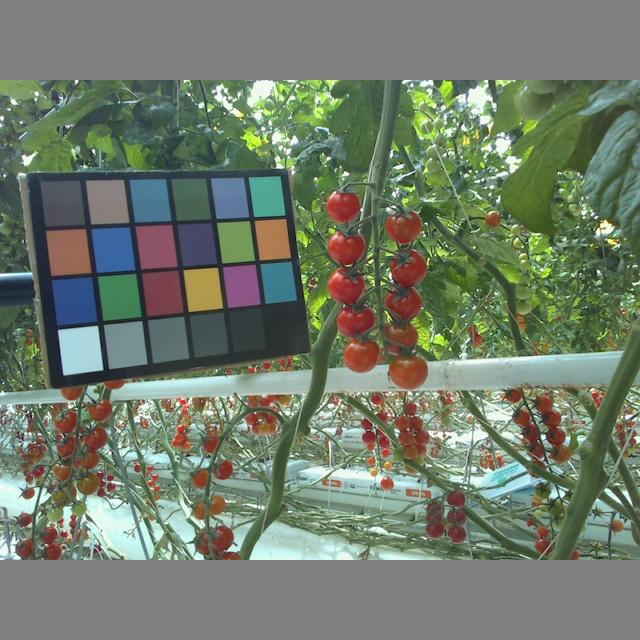pink: (387, 351, 430, 389), (378, 319, 418, 355), (208, 526, 235, 551), (76, 471, 101, 494), (52, 461, 77, 480), (208, 495, 227, 515), (394, 413, 411, 432), (398, 429, 415, 445), (401, 445, 417, 460), (404, 401, 418, 417)
red: (335, 302, 376, 341), (389, 245, 428, 286), (325, 229, 366, 266), (382, 284, 423, 321), (385, 208, 423, 245), (327, 268, 364, 305), (342, 337, 379, 372), (325, 188, 362, 222), (83, 425, 108, 452), (56, 436, 80, 460), (88, 400, 114, 422), (56, 409, 79, 433), (212, 458, 235, 481), (191, 468, 213, 488)
